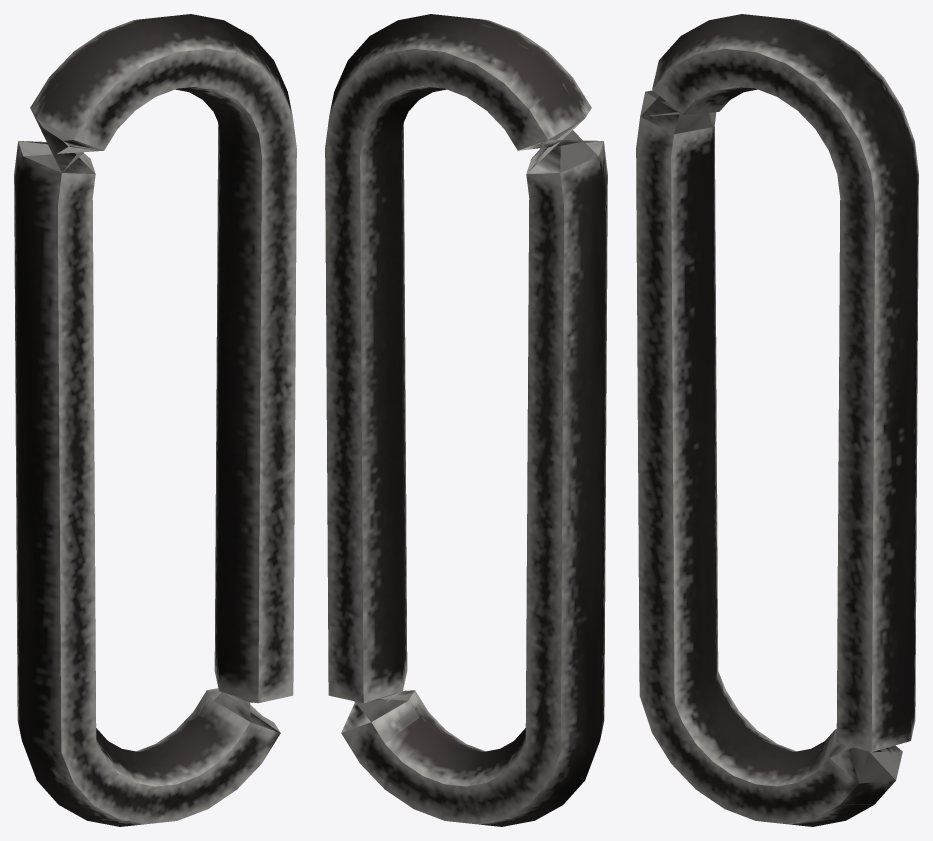
Rendered from Yarnspinner_ChainLink.fbx.
The picture shows the model from 3 angles, left to right: view 1: azimuth 30°, elevation 25°; view 2: azimuth 150°, elevation 25°; view 3: azimuth 330°, elevation 25°; orthographic projection.
Visible parts, largest first — view 1: Yarnspinner_ChainLink; view 2: Yarnspinner_ChainLink; view 3: Yarnspinner_ChainLink.
Boxes of the visible parts, <box> form: Yarnspinner_ChainLink: <box>14,14,296,826</box>; Yarnspinner_ChainLink: <box>325,14,607,826</box>; Yarnspinner_ChainLink: <box>636,14,918,826</box>.
Bounding box in the file's own units: 0.094 × 0.264 × 0.026.
